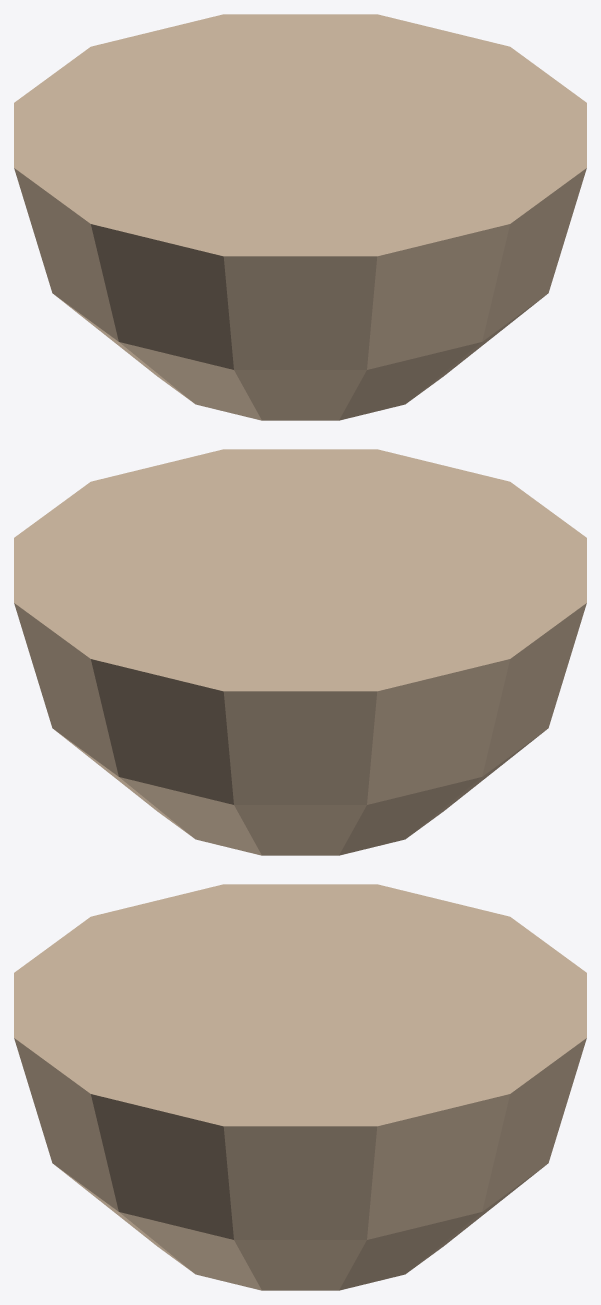
The model's file is core_engine_collider.obj.
The picture shows the model from 3 angles, top to bottom: view 1: azimuth 30°, elevation 25°; view 2: azimuth 150°, elevation 25°; view 3: azimuth 270°, elevation 25°; orthographic projection.
Parts seen in each view (by area): view 1: c; view 2: c; view 3: c.
Boxes of the visible parts, bbox=[...] form: c: bbox=[14, 14, 586, 420]; c: bbox=[14, 449, 586, 855]; c: bbox=[14, 884, 586, 1290].
Bounding box in the file's own units: 0.625 × 0.3125 × 0.625.
